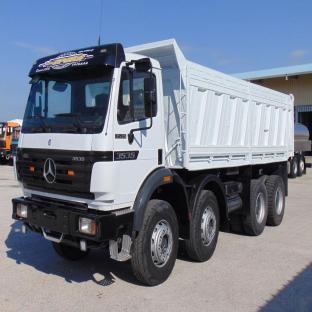Vehicle: (13, 48, 304, 272)
